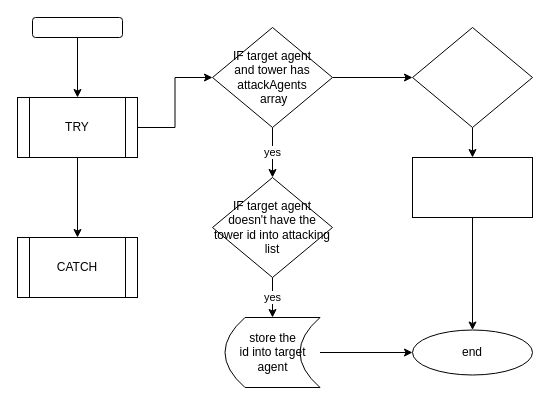
Image size: 550x405. Some labels were removed from this diagram. Here are the shapes that lost their labels. From the top down, the box of each, then its label:
(32, 16, 122, 38): start
(412, 26, 532, 128): ELSE
(412, 156, 532, 218): user console
